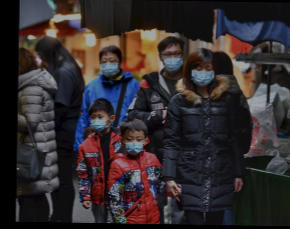with_mask: (189, 62, 216, 88), (161, 48, 183, 73), (99, 54, 120, 80), (123, 131, 145, 155), (88, 111, 106, 131)
